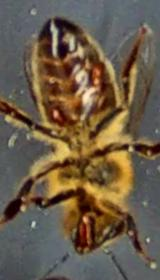varroa_mite: (78, 56, 110, 93), (44, 98, 78, 132)
